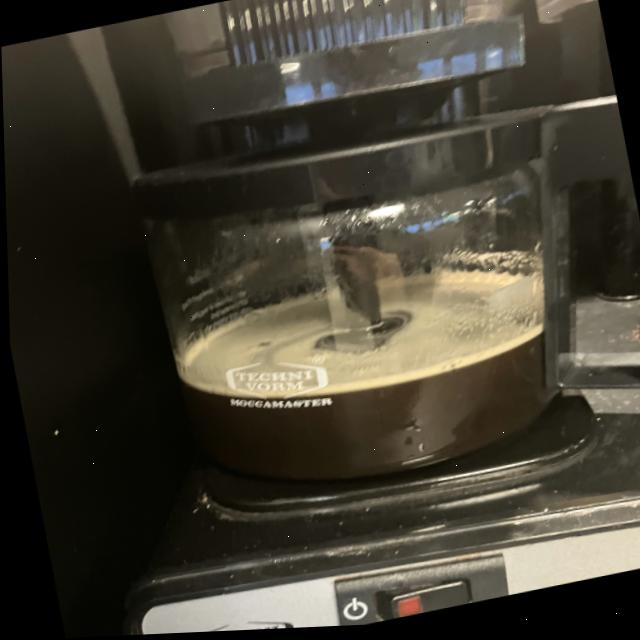coffee: (72, 97, 619, 533)
